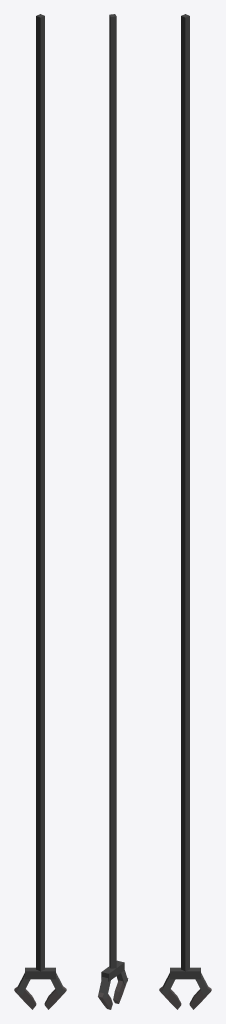
File: mechanical_hand.glb
The picture shows the model from 3 angles, left to right: view 1: azimuth 90°, elevation 25°; view 2: azimuth 150°, elevation 25°; view 3: azimuth 270°, elevation 25°; orthographic projection.
Parts seen in each view (by area): view 1: Base, Left_Handle, Right_Handle; view 2: Base, Right_Handle, Left_Handle; view 3: Base, Left_Handle, Right_Handle.
Part boxes in pixels (box(x1,y1,x2,y2)): Base: box(25, 14, 55, 979); Left_Handle: box(44, 973, 66, 1009); Right_Handle: box(14, 973, 36, 1009); Base: box(101, 14, 124, 981); Right_Handle: box(98, 977, 112, 1009); Left_Handle: box(113, 970, 128, 1003); Base: box(170, 14, 200, 979); Left_Handle: box(159, 973, 181, 1009); Right_Handle: box(189, 973, 211, 1009).
Bounding box in the file's own units: 1 × 126 × 5.99.
1 material, 1 textured.
